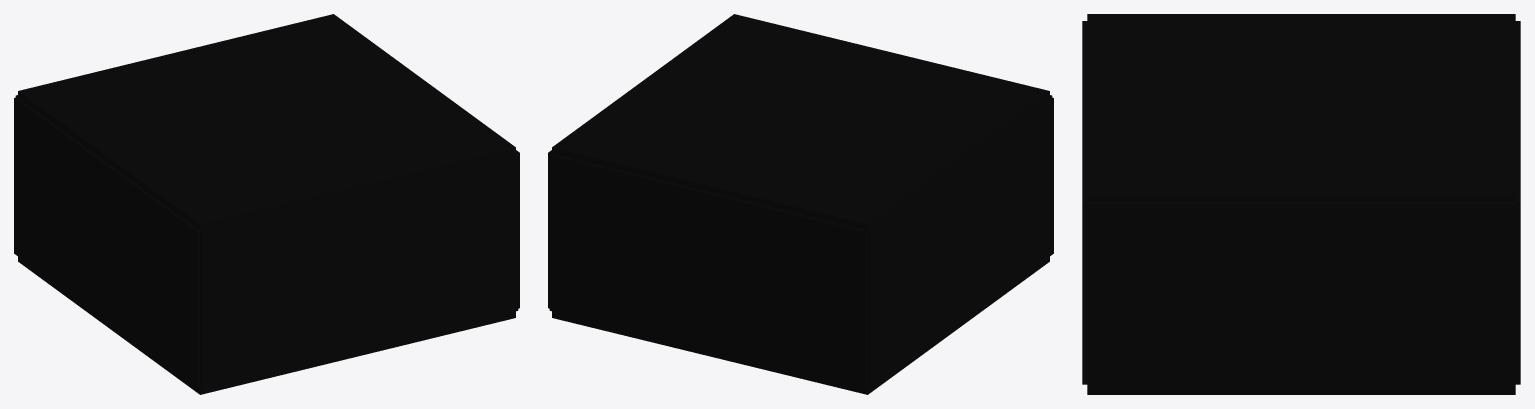
Rendered from cinema.glb.
The picture shows the model from 3 angles, left to right: view 1: azimuth 30°, elevation 25°; view 2: azimuth 150°, elevation 25°; view 3: azimuth 270°, elevation 25°; orthographic projection. The views are drawn at different scales.
Parts seen in each view (by area): view 1: Cinema_Baked; view 2: Cinema_Baked; view 3: Cinema_Baked.
Part boxes in pixels (box(x1,y1,x2,y2)): Cinema_Baked: box(14, 14, 519, 394); Cinema_Baked: box(548, 14, 1053, 394); Cinema_Baked: box(1082, 14, 1520, 394).
Bounding box in the file's own units: 6.96 × 3.51 × 6.96.
2 materials, 1 textured.
